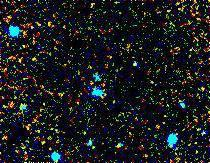star: (0, 88, 26, 118)
